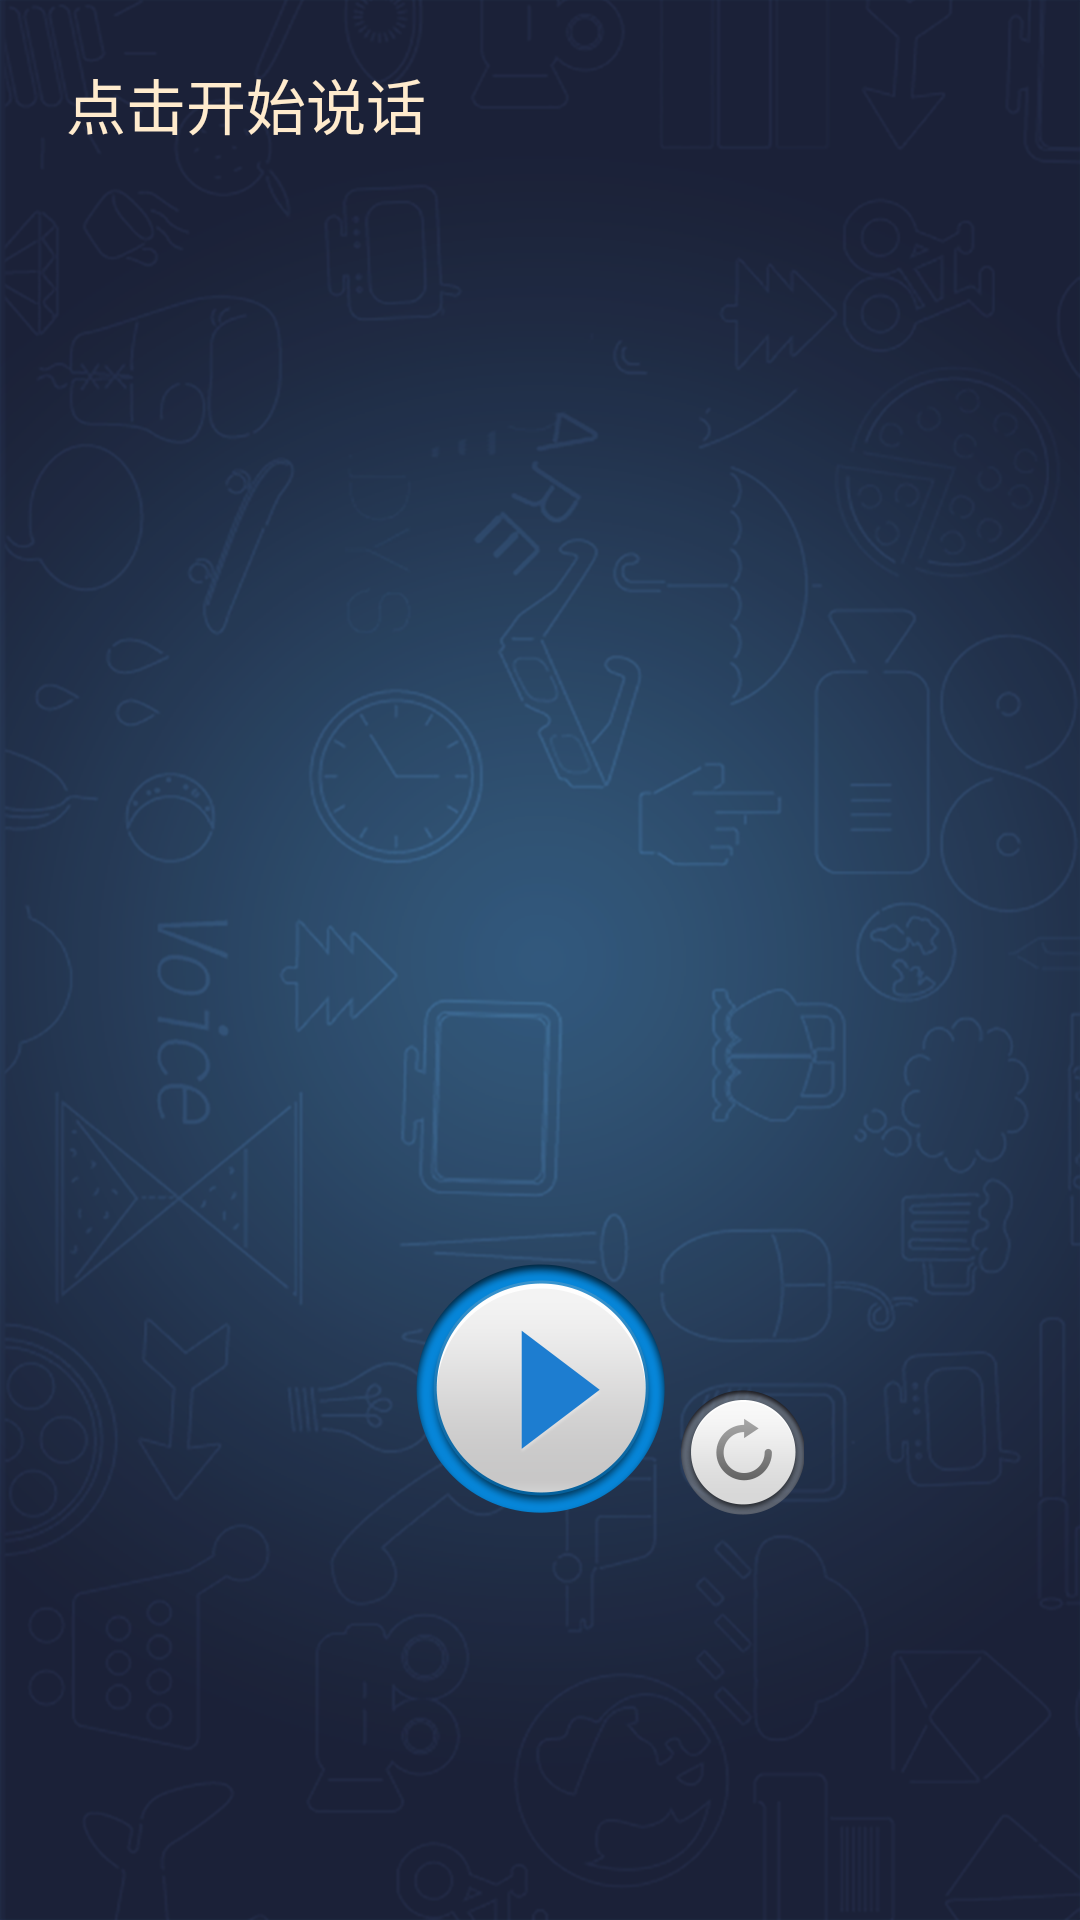

Point at icon controls on the screen. Image size 1080px×1920px, points as (x=x, y=y).
synplay: (x=540, y=1383)
